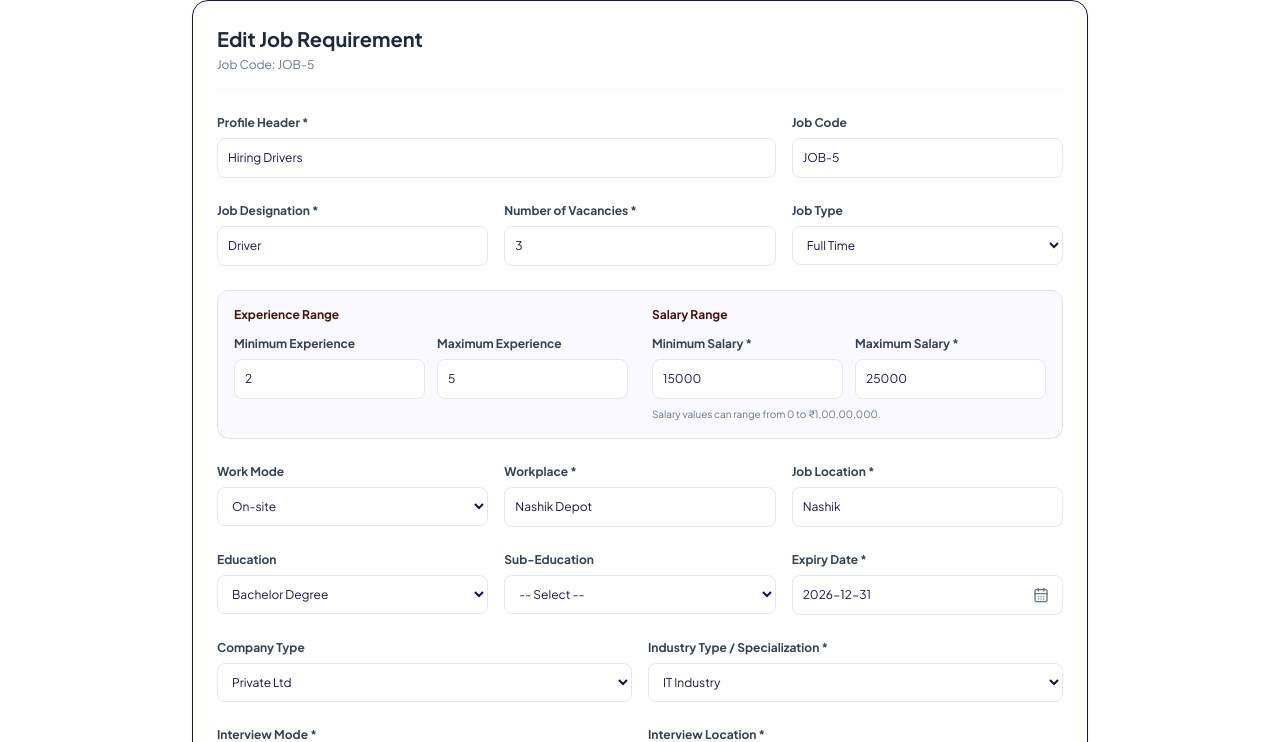
EditJobForm › rejects salary above one crore
The width and height of the screenshot is (1280, 742).
Replace the text in the field named "salary" below "Minimum Salary *" with "10000001" at [748, 379], box [652,359,843,399]
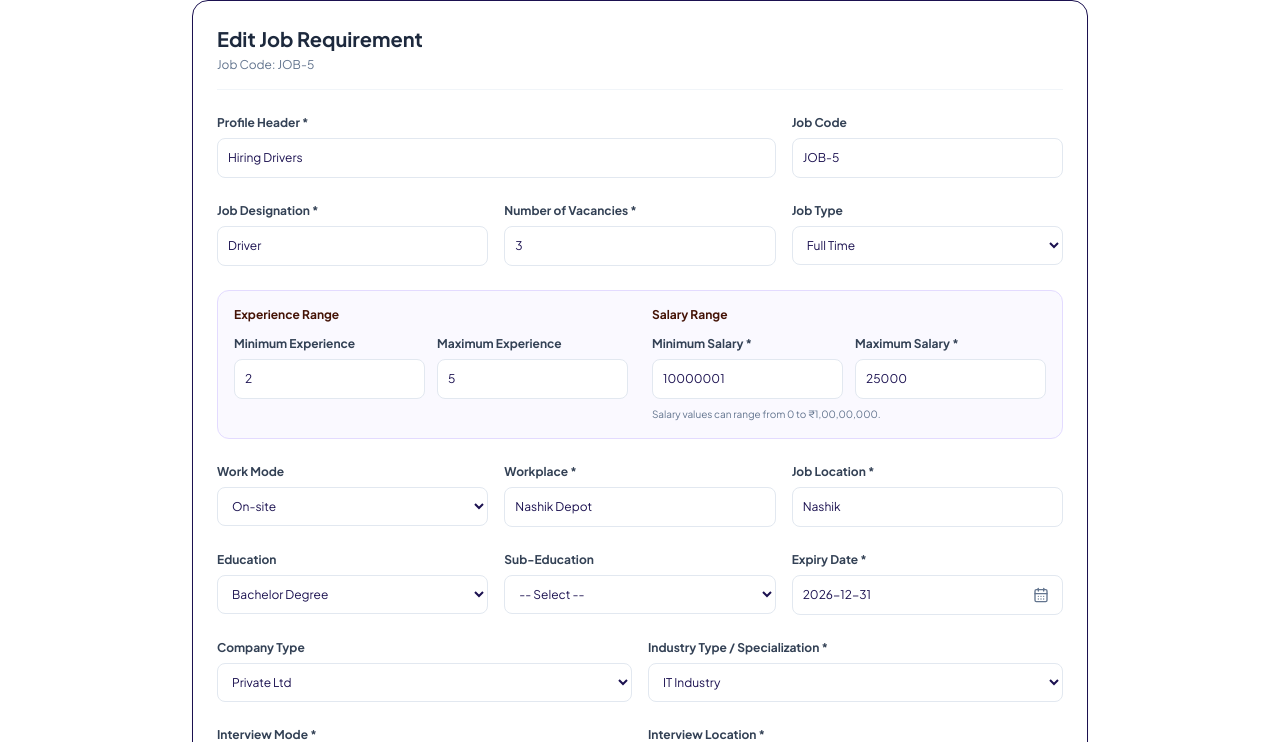
Replace the text in the field named "salaryTo" below "Maximum Salary *" with "10000001" at [950, 379], box [855,359,1046,399]
(page scrolled)
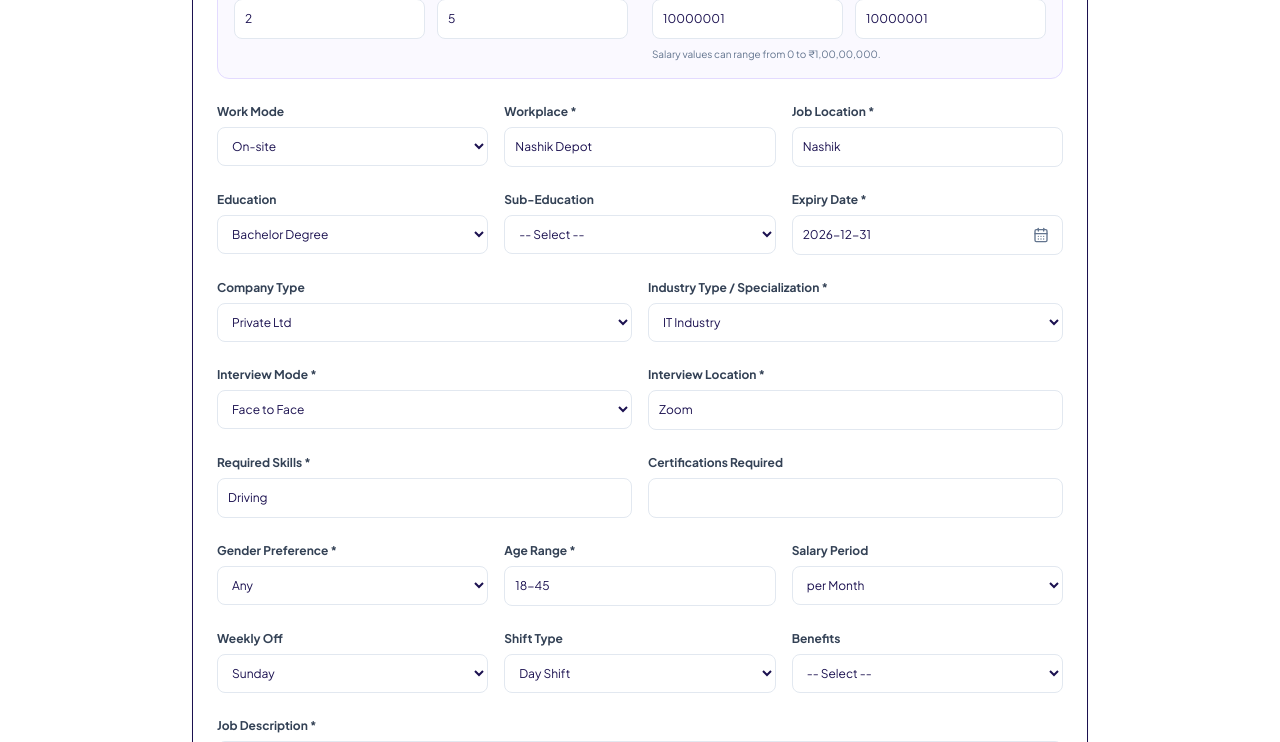
Submit the form
(page scrolled)
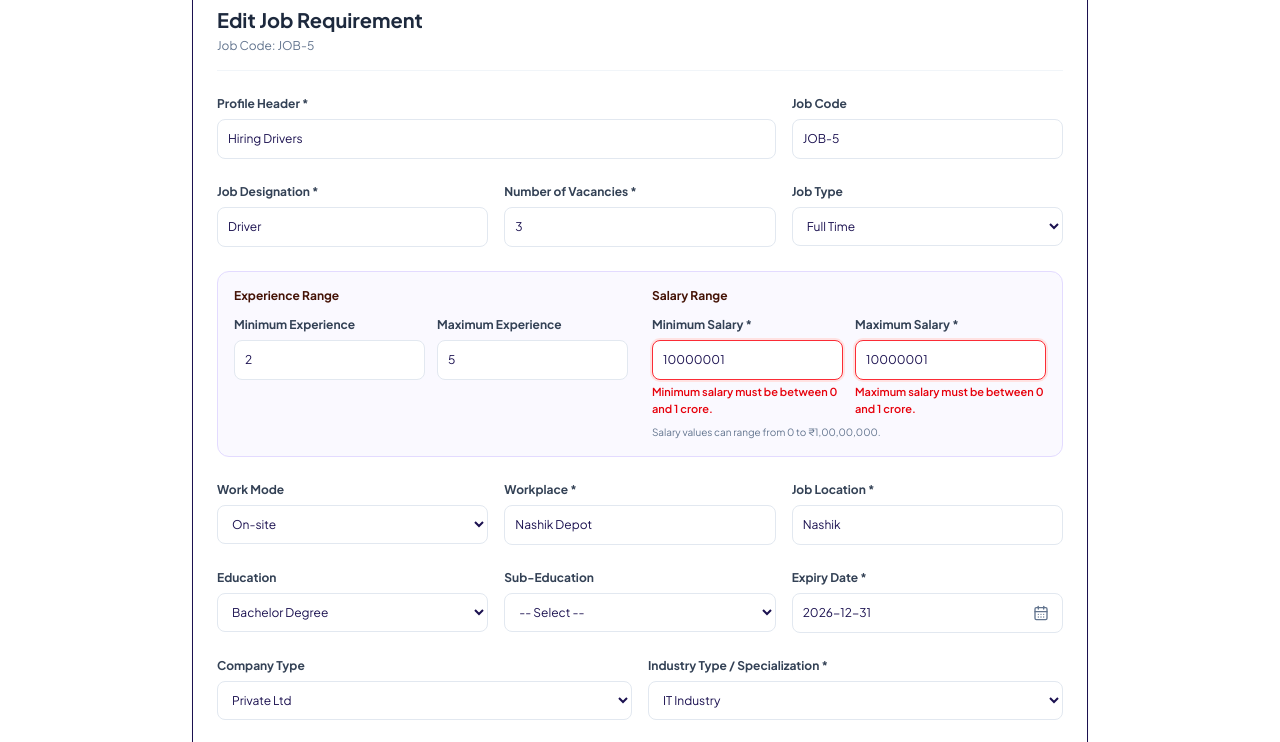
expect the text "Minimum salary must be between 0 and 1 crore." is shown: met, box [652,384,843,417]
expect the text "Maximum salary must be between 0 and 1 crore." is shown: met, box [855,384,1046,417]
